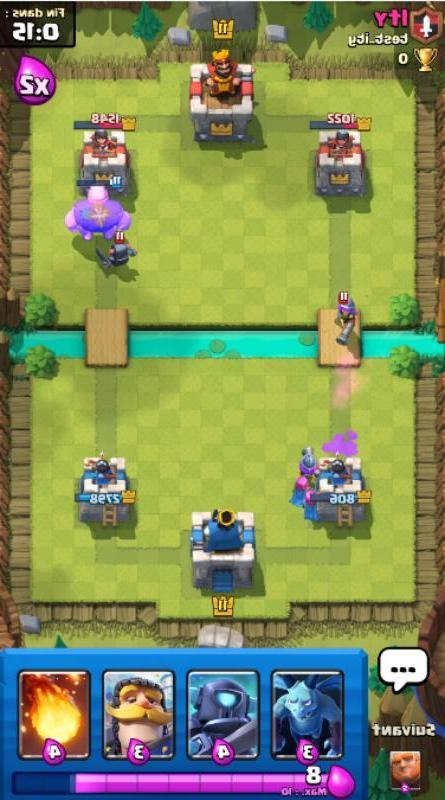enemy_mini_pekka: (92, 228, 143, 272)
enemy_musketeer: (330, 289, 362, 346)
player_archers: (287, 472, 312, 507), (300, 482, 320, 516)
player_giant: (59, 178, 136, 242)
player_musketeer: (296, 442, 320, 478)
